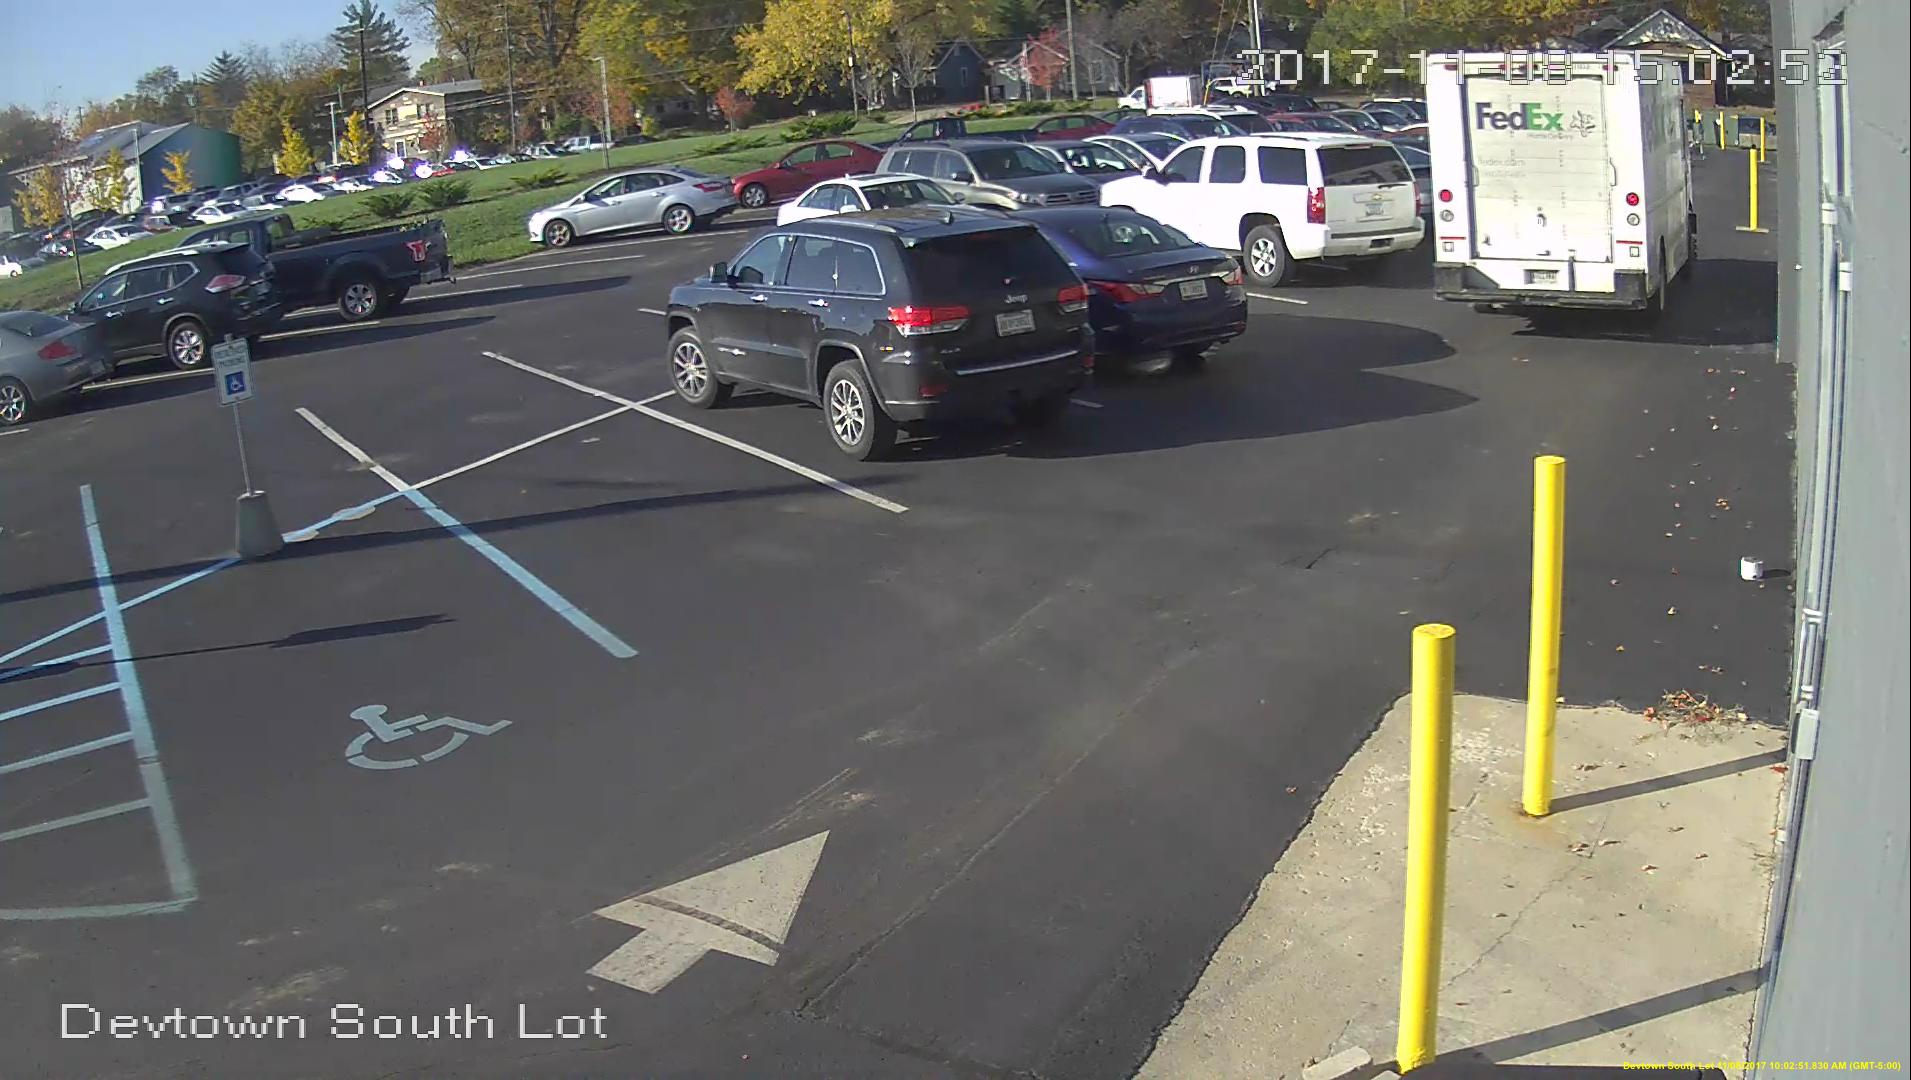fedex_truck: (1414, 47, 1702, 319)
